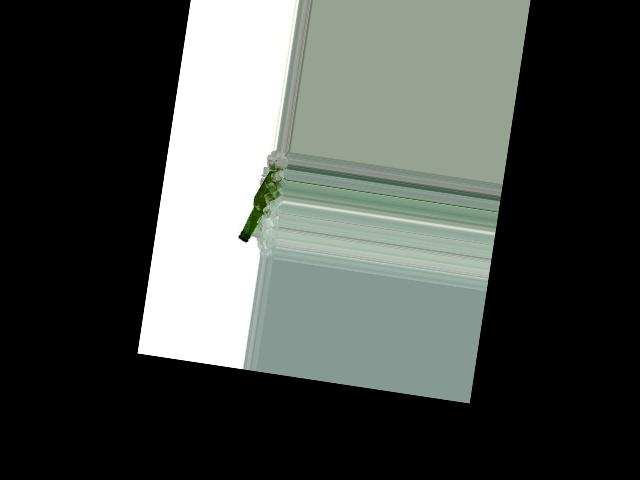beer: (238, 162, 278, 246)
